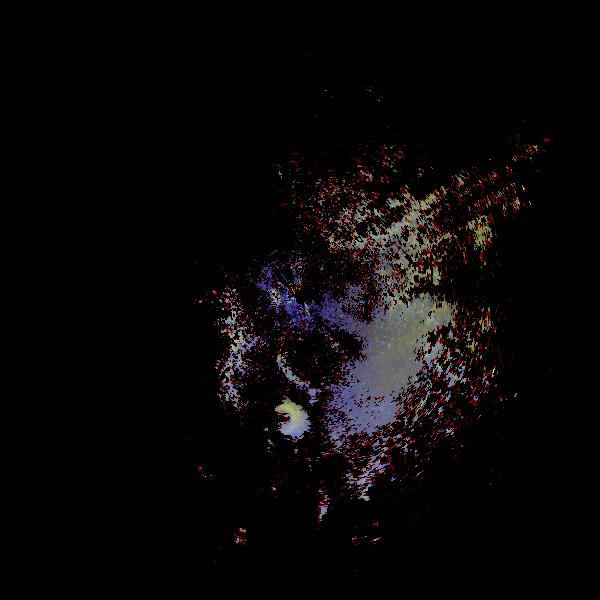roost: (269, 403, 302, 436)
